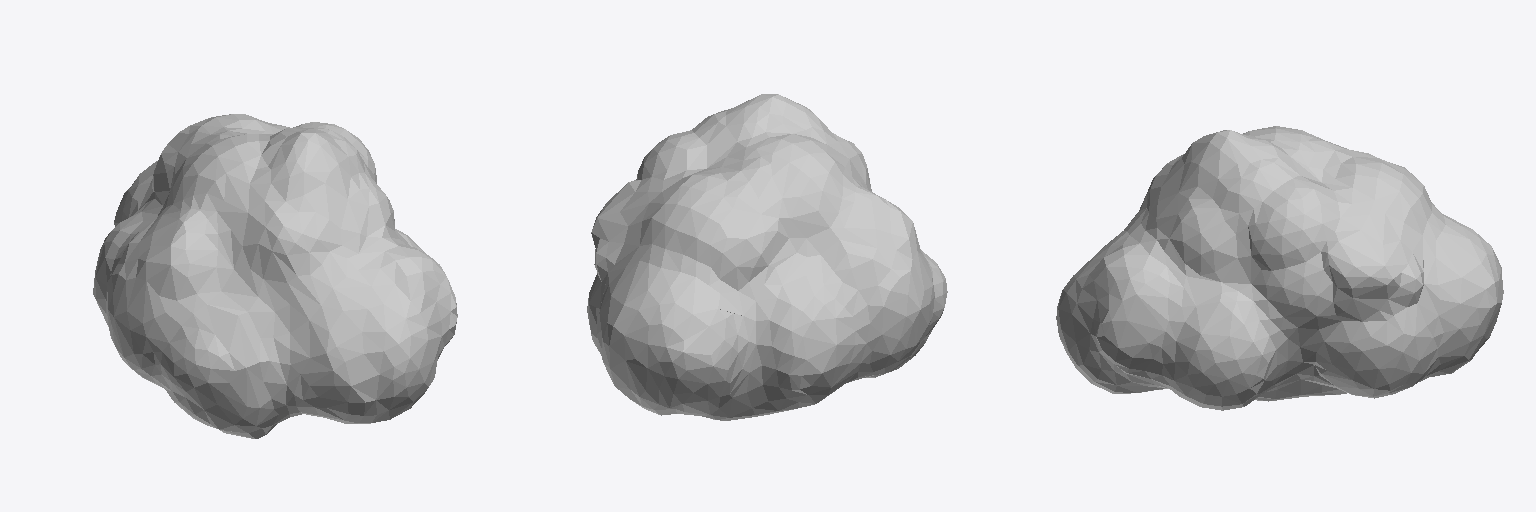
The model's file is Cloud_test2.OBJ.
The picture shows the model from 3 angles: view 1: azimuth 30°, elevation 25°; view 2: azimuth 150°, elevation 25°; view 3: azimuth 270°, elevation 25°; orthographic projection.
Parts seen in each view (by area): view 1: Group47713; view 2: Group47713; view 3: Group47713.
Boxes of the visible parts, box(x1,y1,x2,y2) form: Group47713: box(93, 114, 457, 438); Group47713: box(587, 94, 947, 420); Group47713: box(1056, 126, 1503, 410).
Size of the model in its own units: 21.11 by 18.61 by 27.74.